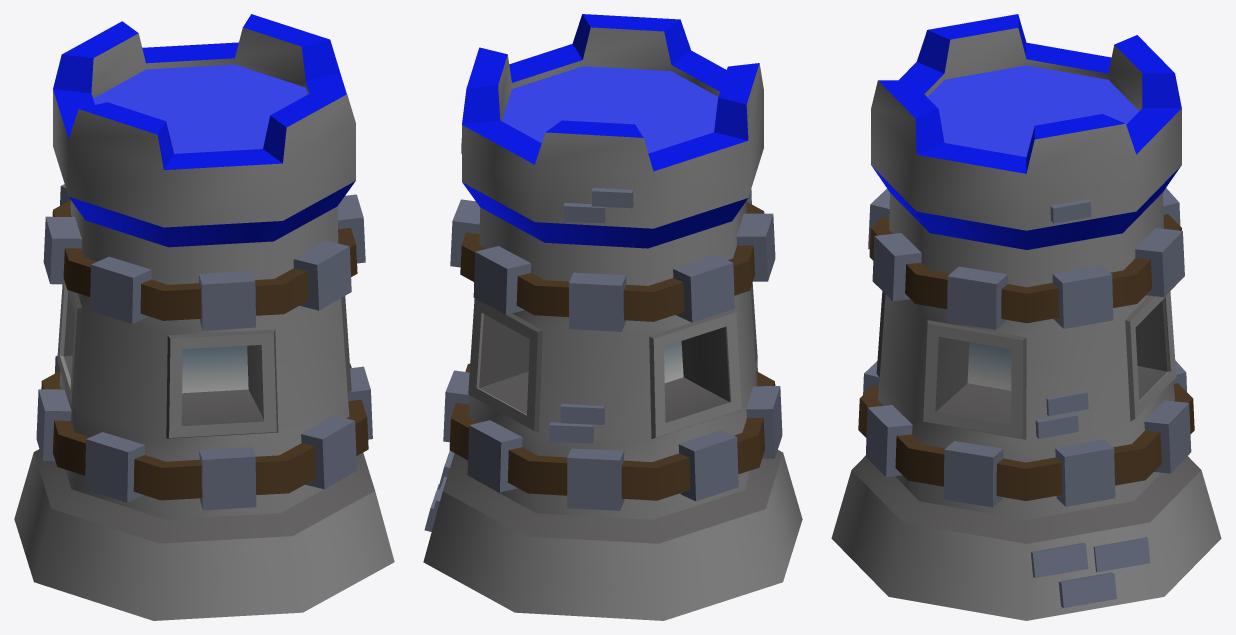
The model's file is Tower9 1.fbx.
3 renders of one model, left to right at view 1: azimuth 30°, elevation 25°; view 2: azimuth 150°, elevation 25°; view 3: azimuth 270°, elevation 25°, orthographic.
Visible parts, largest first — view 1: Tower9; view 2: Tower9; view 3: Tower9.
Part boxes in pixels (left/top/right/bottom): Tower9: left=14, top=14, right=394, bottom=620; Tower9: left=423, top=14, right=802, bottom=620; Tower9: left=831, top=14, right=1221, bottom=620.
Bounding box in the file's own units: 336 × 440 × 336.
